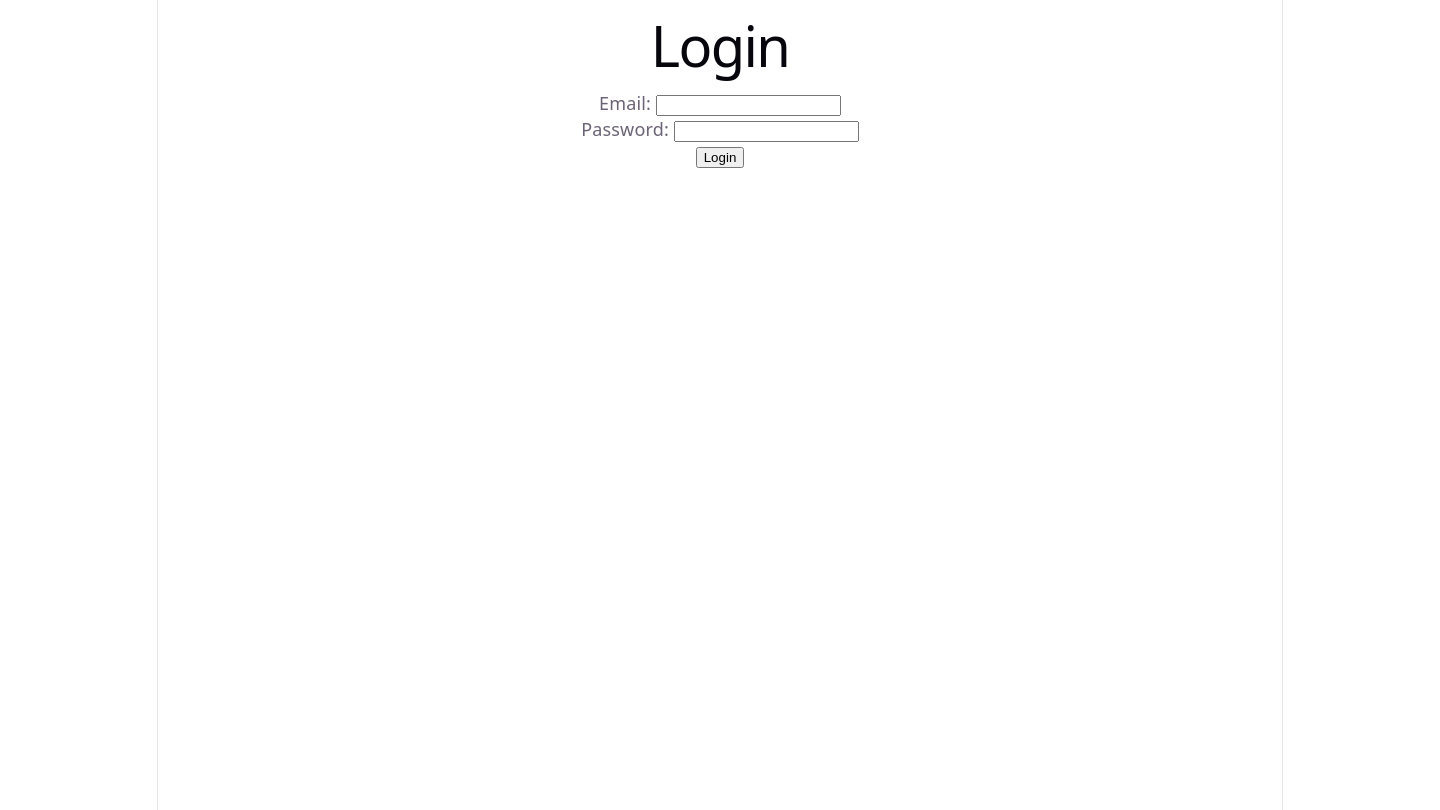
LoginPage › incorrect password displays error
The width and height of the screenshot is (1440, 810).
Type "alice@example.com" into the field labelled "Email:" at point(748, 106), box [656,95,841,116]
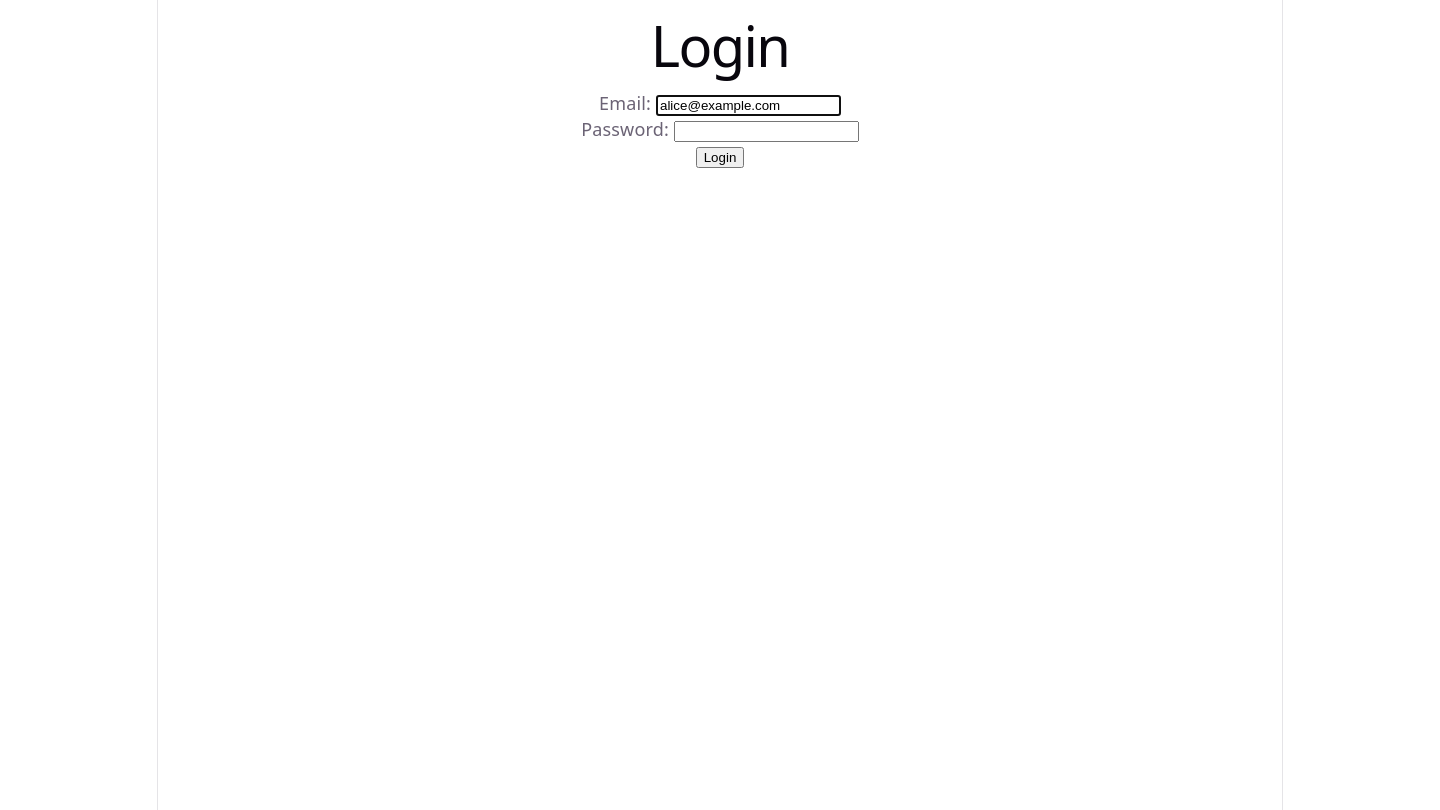
Type "wrongpassword123" into the password field labelled "Password:" at point(766, 132), box [674,121,859,142]
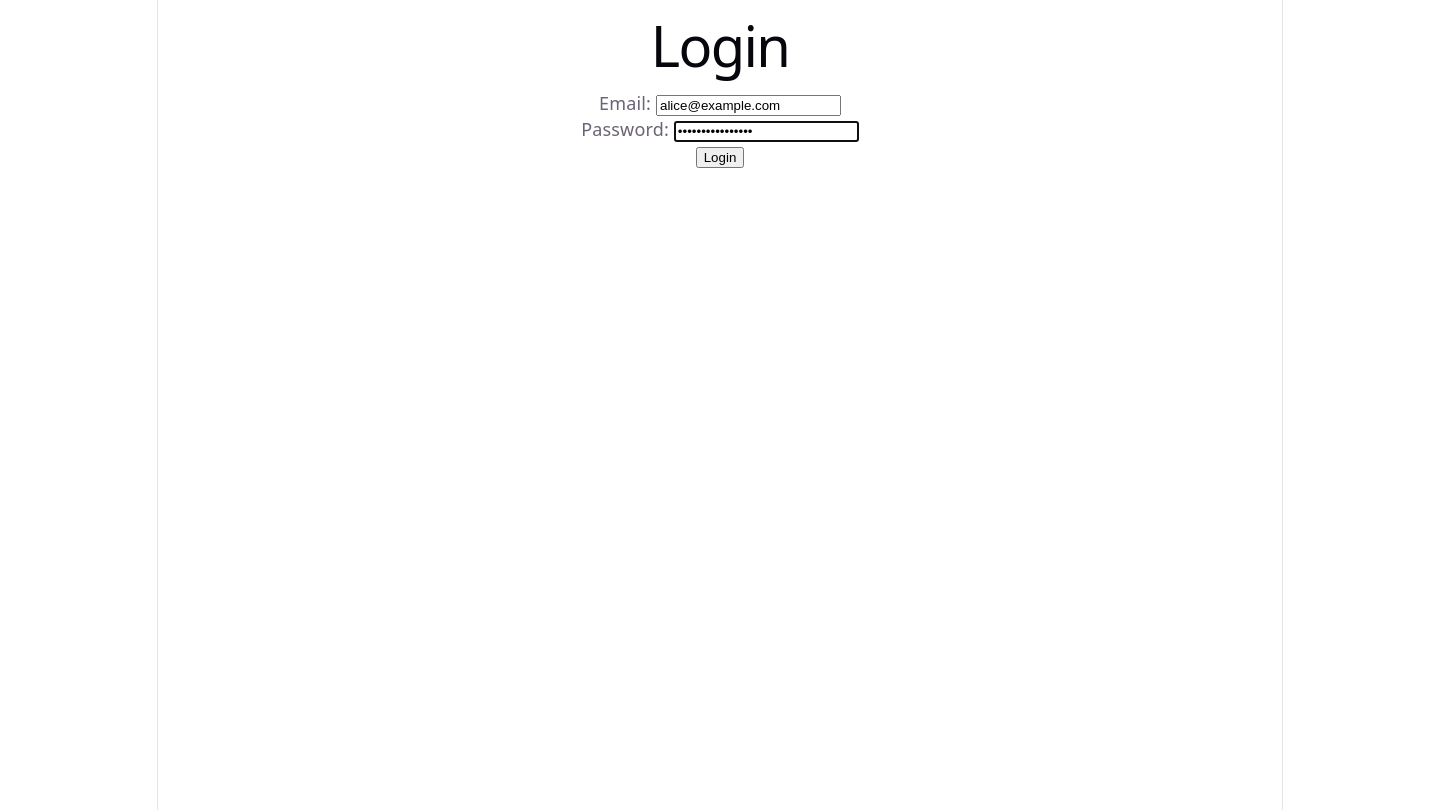
Click the button "Login" at point(720, 158), box [696,147,744,168]
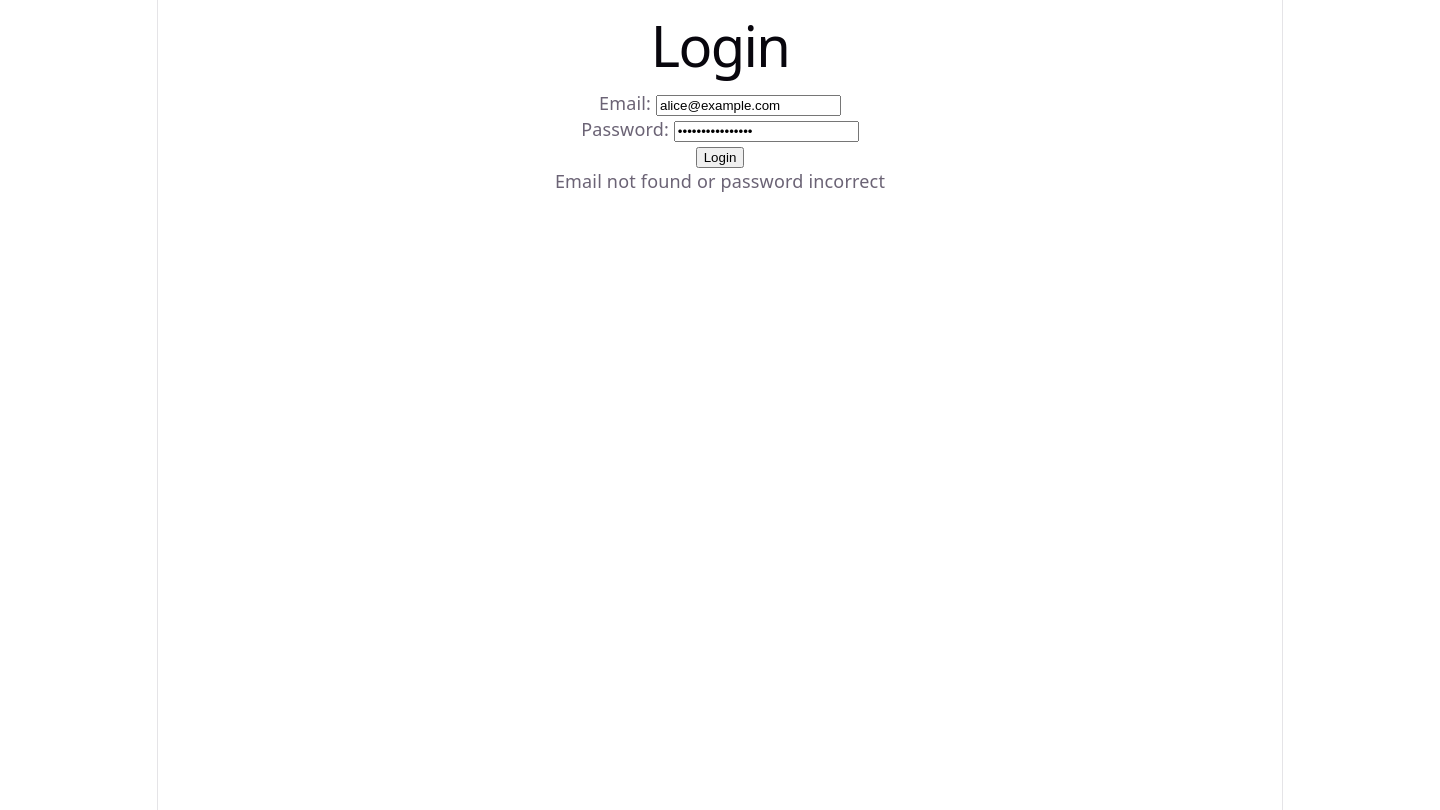
expect the message reads "Email not found or password incorrect": met, box [555,169,885,193]
